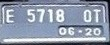plate: (1, 1, 109, 43)
